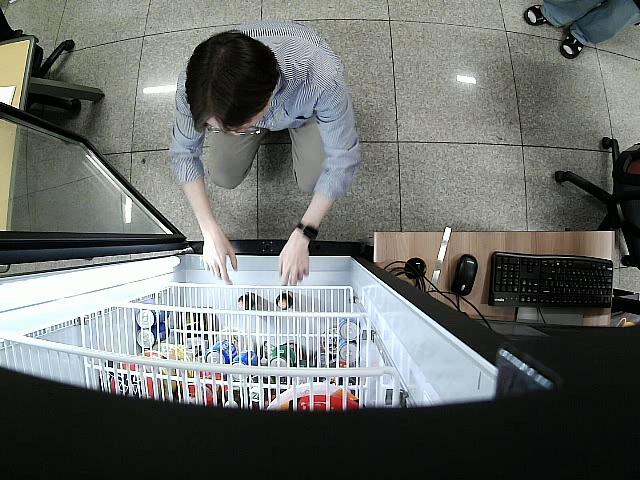00_hand: (202, 240, 238, 284), (279, 244, 308, 285)
